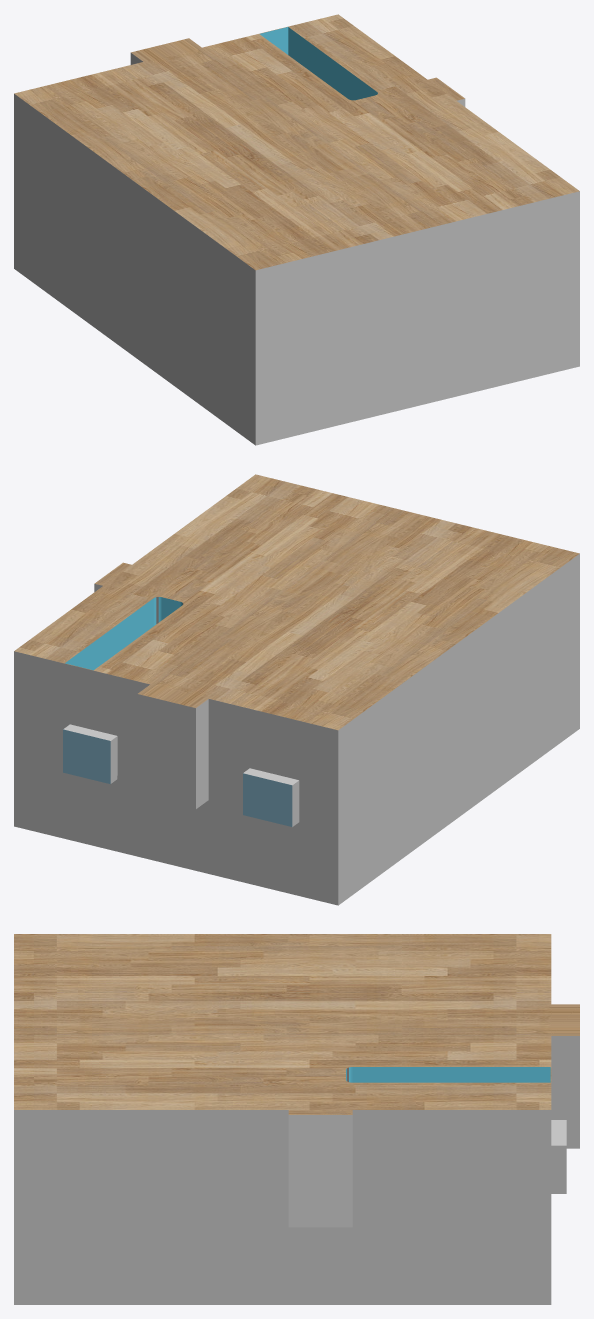
The model's file is TobaccoShop.fbx.
3 renders of one model, top to bottom at view 1: azimuth 30°, elevation 25°; view 2: azimuth 150°, elevation 25°; view 3: azimuth 270°, elevation 25°, orthographic. The views are drawn at different scales.
Visible parts, largest first — view 1: TobaccoShop; view 2: TobaccoShop; view 3: TobaccoShop.
Boxes of the visible parts, x1,y1,x2,y2 form: TobaccoShop: (14,14,579,445); TobaccoShop: (14,474,579,905); TobaccoShop: (14,934,579,1304).
Size of the model in its own units: 1115 by 560 by 1475.
